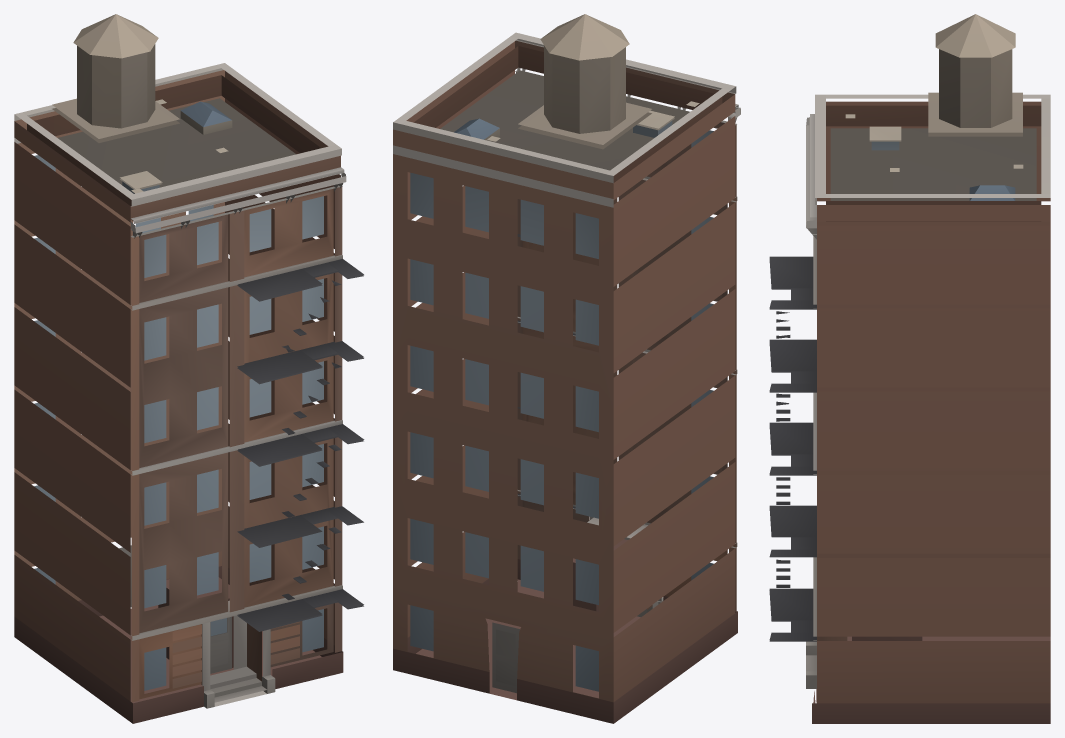
The model's file is tenement.lod.glb.
3 renders of one model, left to right at view 1: azimuth 30°, elevation 25°; view 2: azimuth 150°, elevation 25°; view 3: azimuth 270°, elevation 25°, orthographic. The views are drawn at different scales.
Visible parts, largest first — view 1: tenement; view 2: tenement; view 3: tenement.
Boxes of the visible parts, x1,y1,x2,y2 form: tenement: (14, 14, 364, 723); tenement: (393, 14, 740, 723); tenement: (769, 14, 1050, 723).
Size of the model in its own units: 8 by 23.06 by 9.2.
